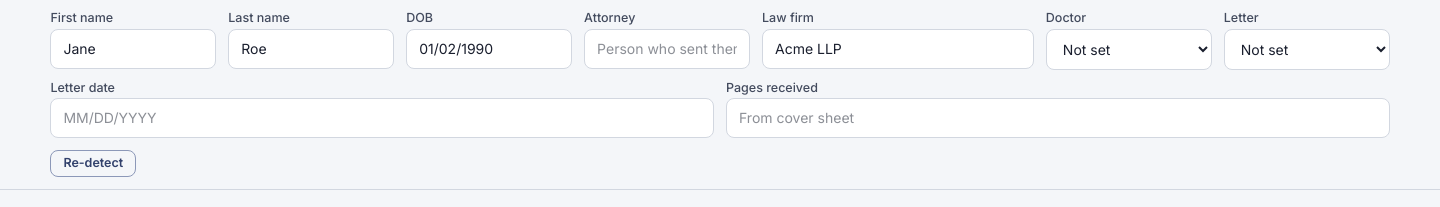
HeaderBar autosave (the reviewers asked for it, 2026-11-04) › does not detect over an edit that failed to save
Type "R" into the field labelled "Attorney" at (667, 49), box [584, 28, 750, 69]
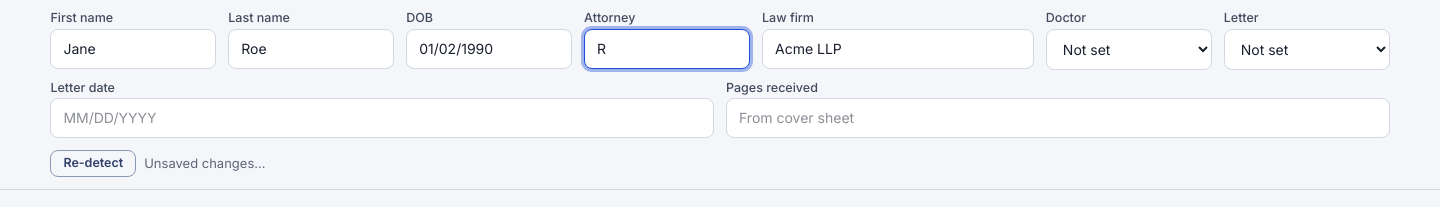
Click the button "Re-detect" at (93, 163), box [50, 150, 136, 177]
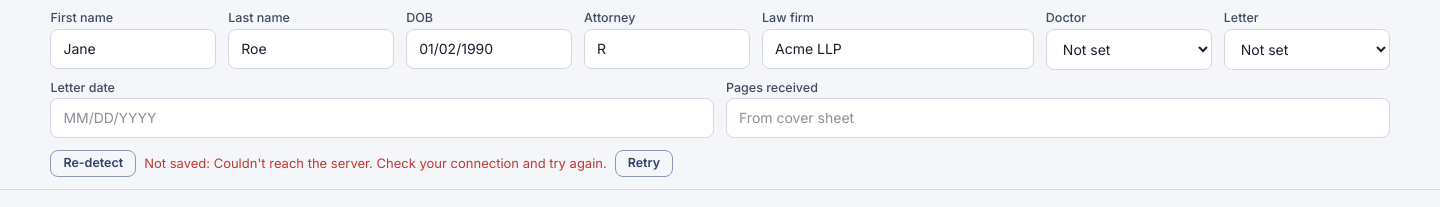
expect the text "Not saved:" is shown: met, box [144, 155, 607, 171]
